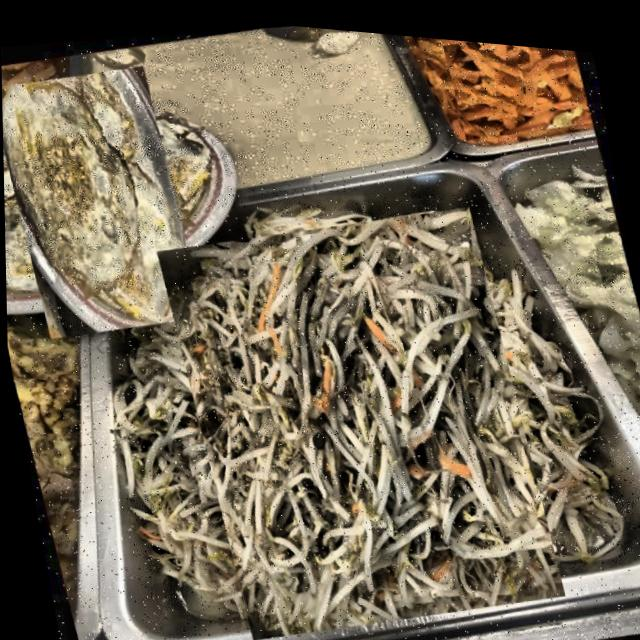Food: (138, 183, 581, 640), (1, 68, 224, 335), (433, 30, 593, 141)
